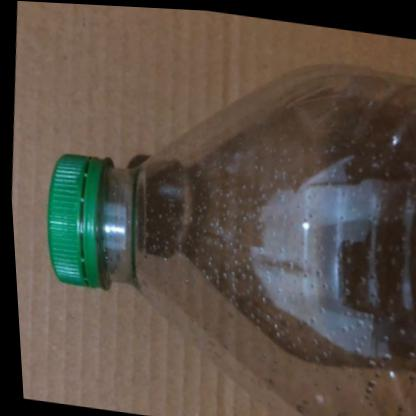bottle cap: (1, 8, 416, 416)
